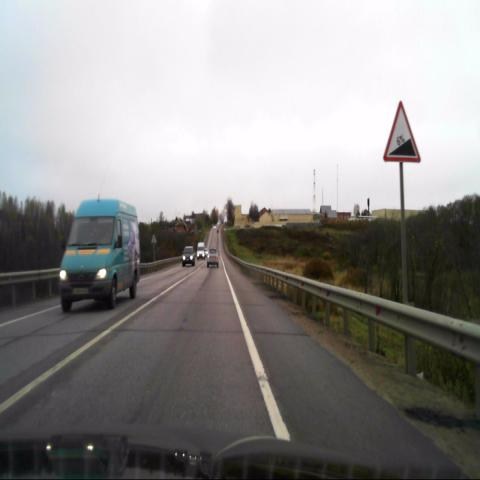1_14: (383, 101, 421, 161)
